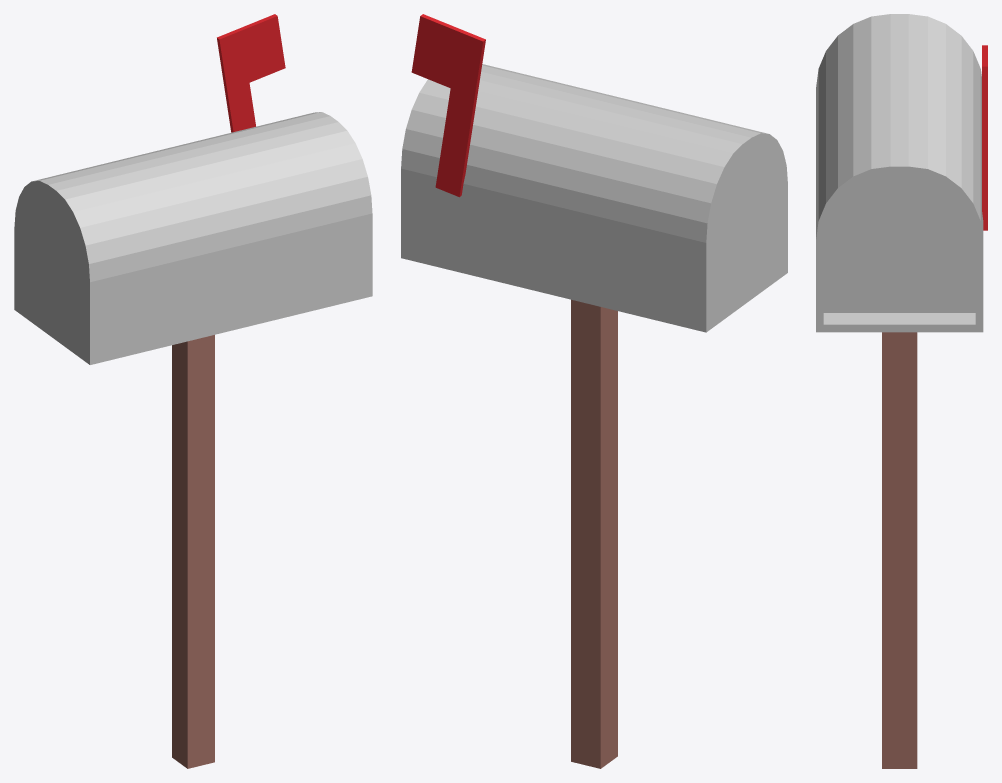
File: mailbox.glb
The picture shows the model from 3 angles, left to right: view 1: azimuth 30°, elevation 25°; view 2: azimuth 150°, elevation 25°; view 3: azimuth 270°, elevation 25°; orthographic projection. The views are drawn at different scales.
Visible parts, largest first — view 1: Cube.001, Cube, Cube.002; view 2: Cube.001, Cube, Cube.002; view 3: Cube.001, Cube, Cube.002.
Part boxes in pixels (bbox=[...]): Cube.001: bbox=[14, 112, 372, 364]; Cube: bbox=[172, 335, 214, 768]; Cube.002: bbox=[217, 14, 285, 132]; Cube.001: bbox=[401, 64, 787, 332]; Cube: bbox=[571, 299, 617, 768]; Cube.002: bbox=[411, 14, 485, 197]; Cube.001: bbox=[816, 14, 983, 332]; Cube: bbox=[882, 332, 917, 768]; Cube.002: bbox=[982, 45, 987, 230].
Bounding box in the file's own units: 8.35 × 19.41 × 3.98.
